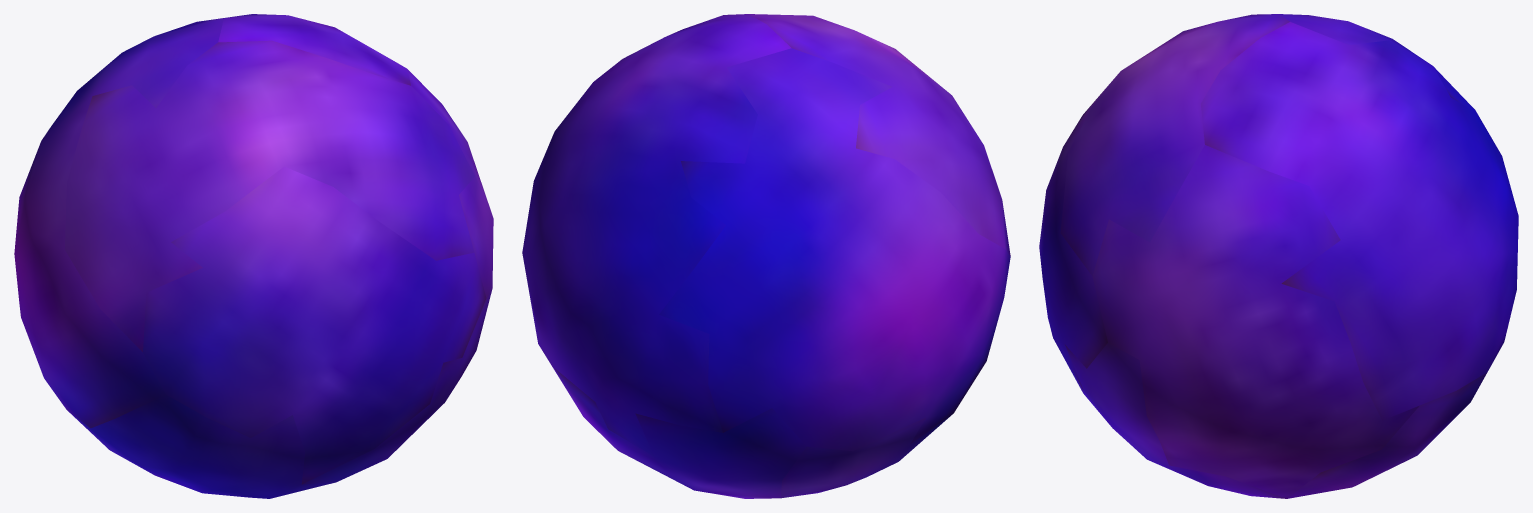
File: bijuu-user.glb
3 renders of one model, left to right at view 1: azimuth 30°, elevation 25°; view 2: azimuth 150°, elevation 25°; view 3: azimuth 270°, elevation 25°, orthographic.
Visible parts, largest first — view 1: User_Bijuu_Orb; view 2: User_Bijuu_Orb; view 3: User_Bijuu_Orb.
Boxes of the visible parts, left/top/right/bottom form: User_Bijuu_Orb: left=14, top=14, right=493, bottom=498; User_Bijuu_Orb: left=522, top=14, right=1010, bottom=498; User_Bijuu_Orb: left=1039, top=14, right=1518, bottom=498.
Size of the model in its own units: 1.98 by 2 by 1.97.
1 material, 1 textured.
